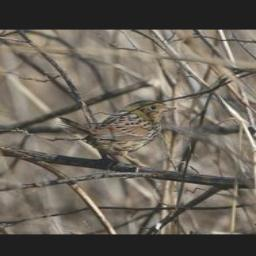Sparrow: (56, 97, 179, 173)
